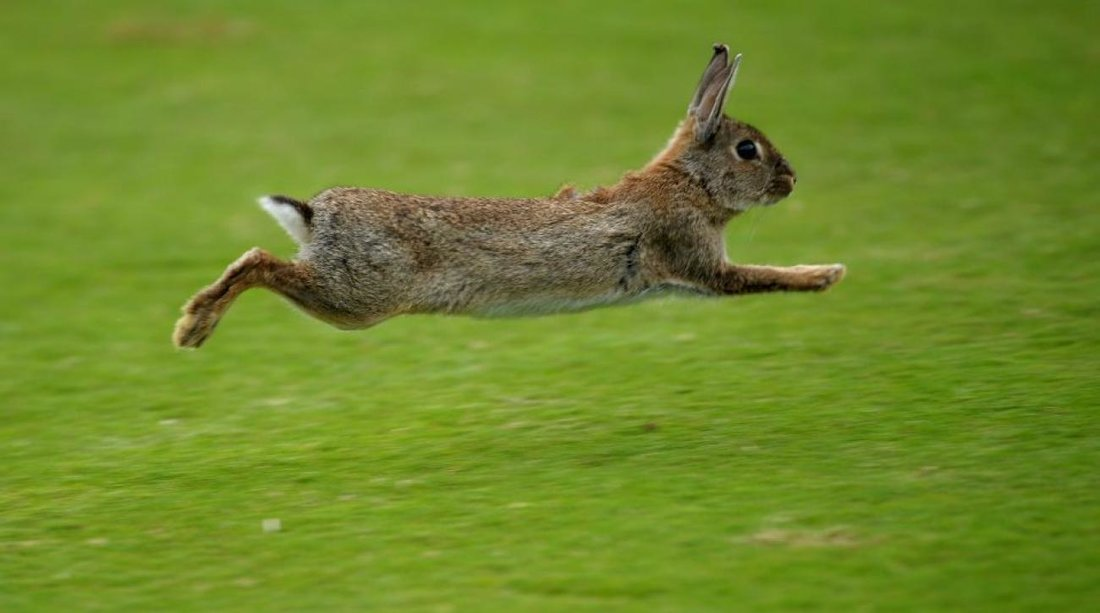bunny: (147, 28, 886, 399)
